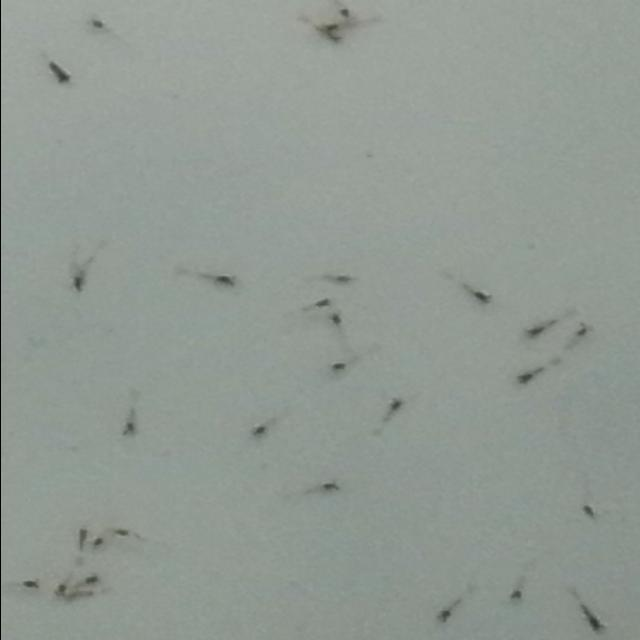shrimp-seed: (46, 61, 77, 85), (578, 606, 606, 632), (510, 368, 544, 388), (118, 409, 142, 436), (465, 286, 493, 306), (74, 525, 94, 553), (314, 26, 344, 44), (208, 270, 238, 288), (383, 396, 408, 414), (322, 272, 354, 286), (316, 476, 340, 494), (66, 590, 94, 605), (249, 421, 272, 439), (578, 504, 600, 522), (508, 586, 528, 604), (326, 310, 344, 330), (90, 534, 108, 553), (308, 296, 332, 310), (325, 362, 349, 376), (524, 326, 546, 341), (574, 323, 596, 338), (338, 5, 357, 21), (22, 577, 42, 592), (54, 582, 70, 600), (436, 609, 456, 623), (73, 274, 86, 292), (92, 18, 109, 30), (113, 528, 133, 538), (84, 575, 102, 586), (324, 22, 340, 34)
